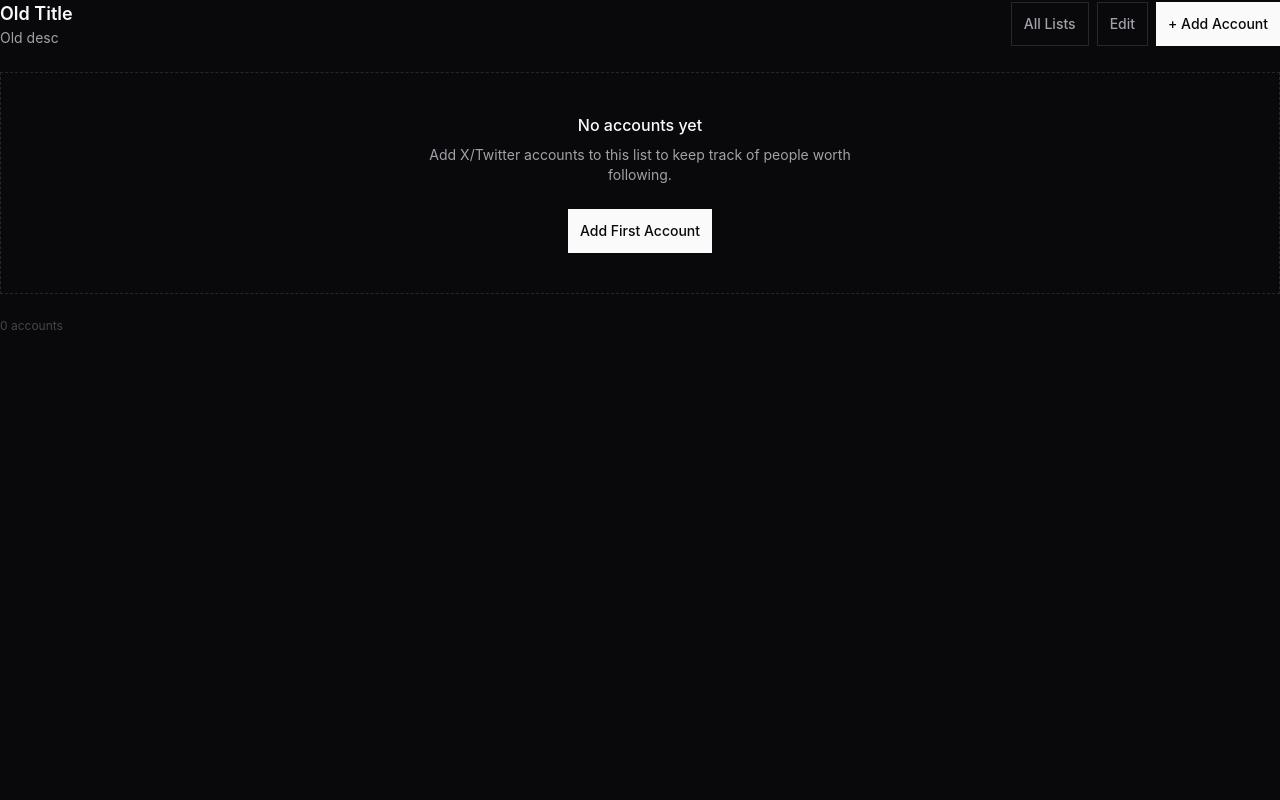
Test: ListsPage › edits a list title via edit modal
This screenshot has width=1280, height=800.
Click the button "Edit": (1122, 24) [1097, 2, 1148, 46]
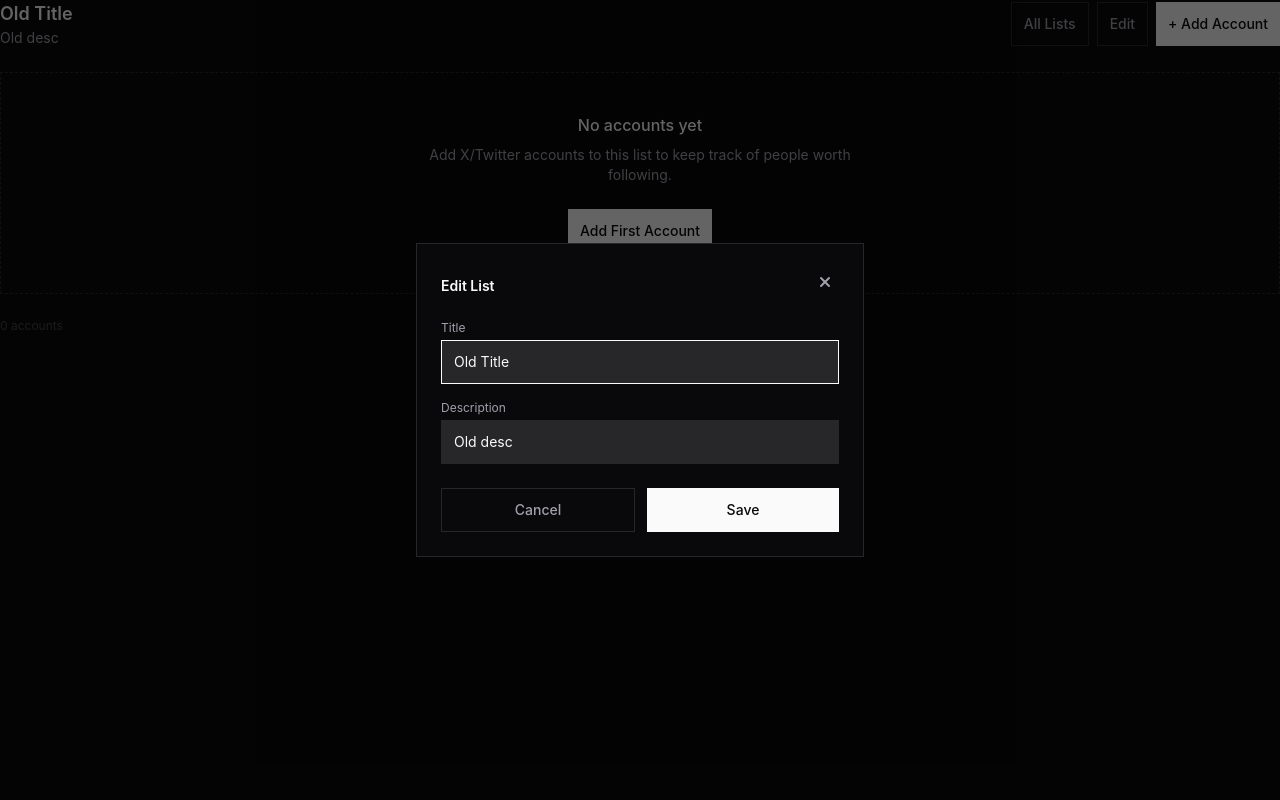
Expected: the heading "Edit List" is shown, [441, 276, 495, 296]
Replace the text in the field with test id "list-title-input" with "New Title": (640, 362) [441, 340, 839, 384]
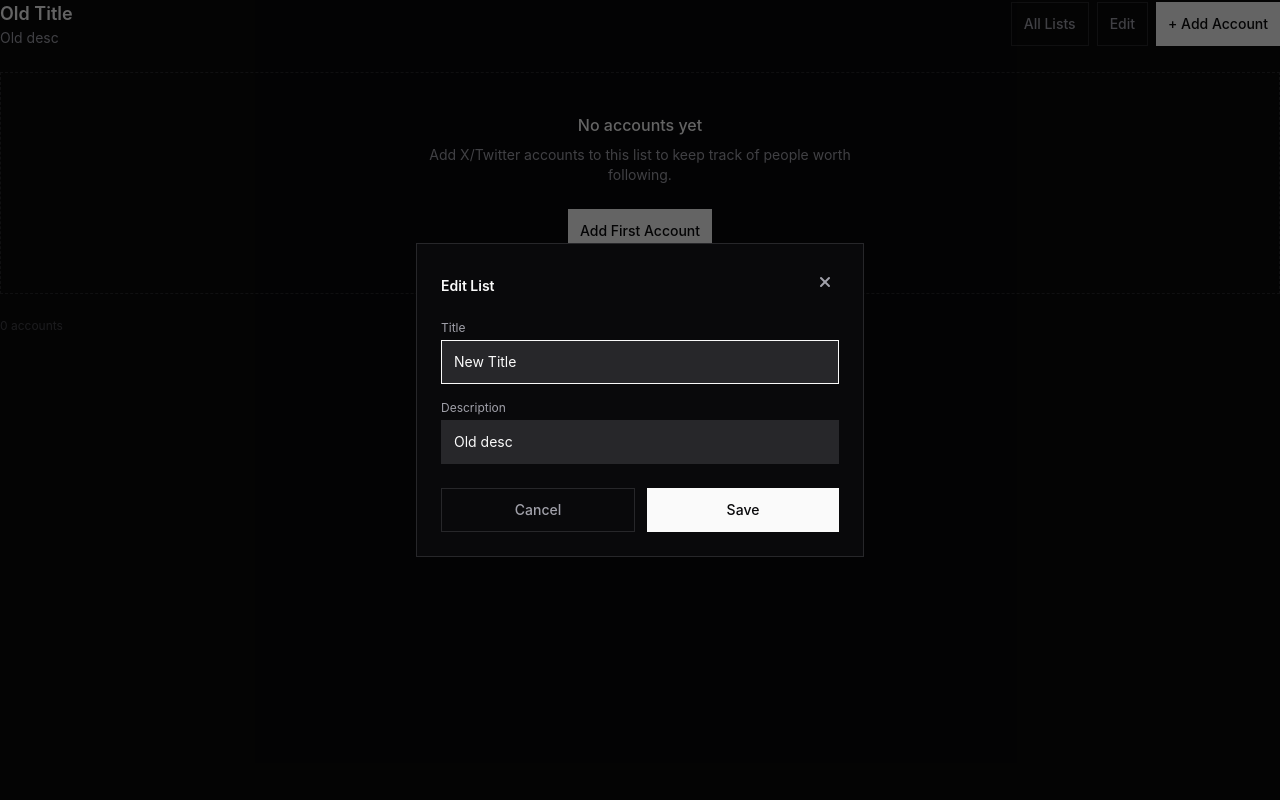
Click the button "Save": (743, 510) [647, 488, 839, 532]
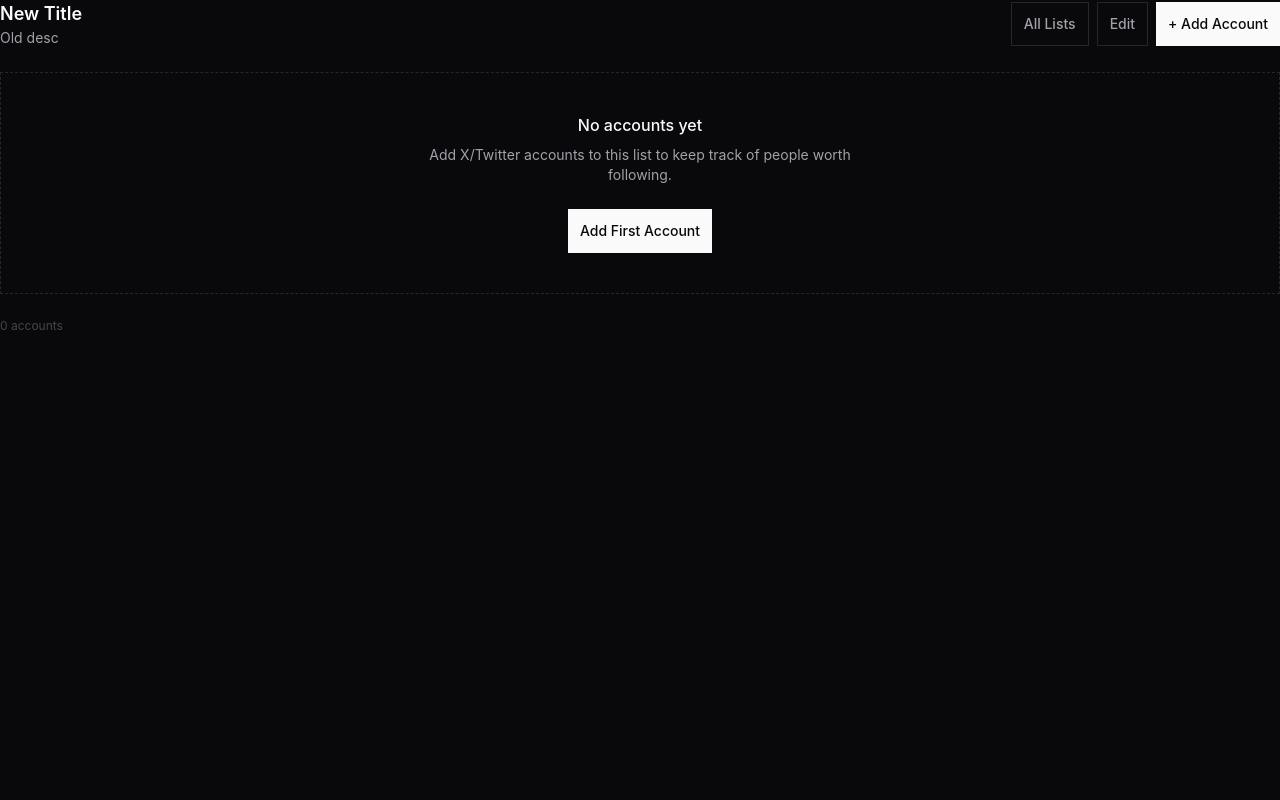
Expected: the heading "New Title" is shown, [0, 0, 82, 28]
